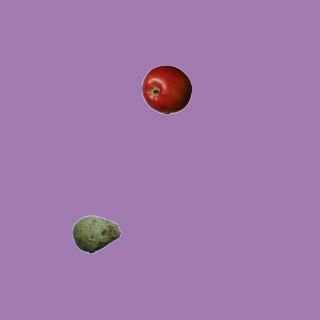Apple Braeburn: (141, 64, 191, 114)
Pear Stone: (71, 209, 121, 259)
